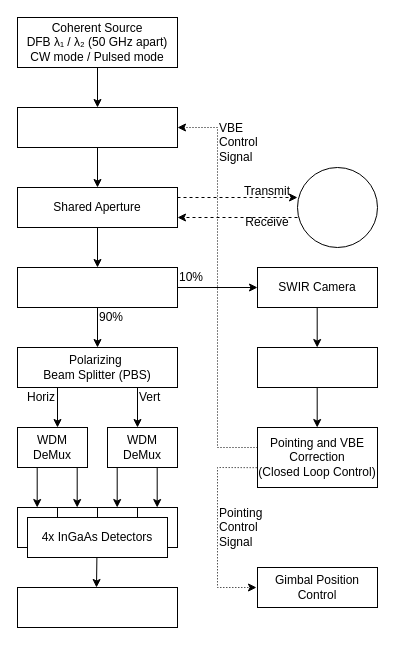
This 395x645 diagram has some shape labels left out. Here are the shapes that lost their labels. From the top down, the centre of each, then its label:
At (97,127): "Variable Beam Expander (VBE)".
At (337,207): "Target".
At (97,287): "Non-Polarizing Beam Splitter (NBS)".
At (317,367): "Centroid Computation".
At (97,607): "DDR Processor".
